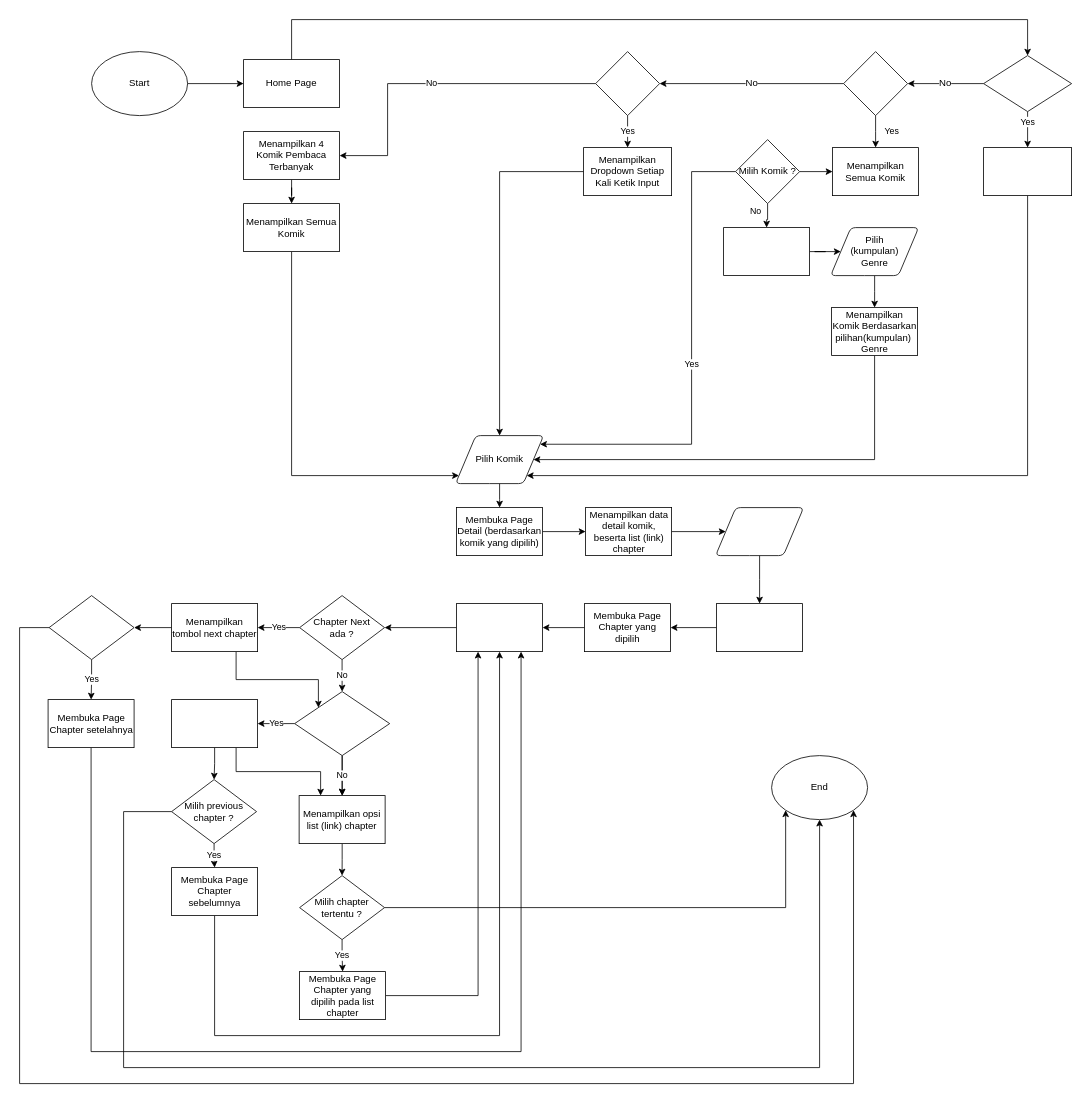
This 1086x1104 diagram has some shape labels left out. The shapes that lost their labels are listed below. From the top down, each one's centre as x and y in pixels, then its label:
(627,83): Search?
(875,83): Akses Genre Page?
(1027,83): Akses Latest Release Page?
(1027,171): Menampilkan Semua Komik Berdasarkan Update Terbaru
(766,251): Menampilkan pilihan genre
(759,531): Pilih Chapter
(91,627): Milih next chapter ?
(499,627): Menampilkan keseluruhan gambar chapter
(759,627): View Komik yang dibaca += 1
(214,723): Menampilkan tombol previous chapter
(342,723): Chapter Previous ada?
